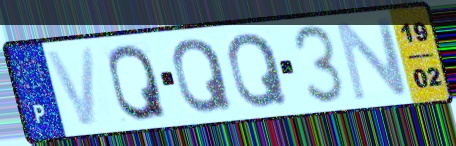3: (292, 22, 347, 107)
N: (333, 15, 412, 104)
Q: (170, 36, 236, 117), (106, 41, 170, 124), (225, 31, 291, 111)
V: (42, 44, 100, 130)
